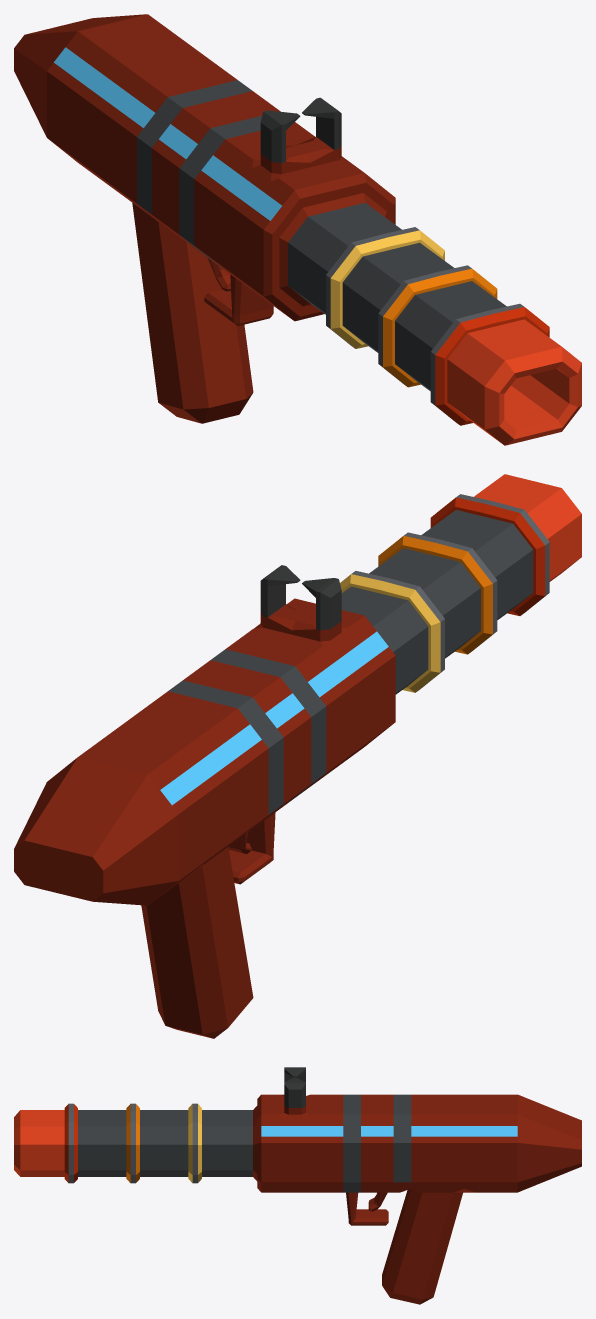
File: pistoLaser.fbx
3 views of the same model, one above another, from view 1: azimuth 30°, elevation 25°; view 2: azimuth 150°, elevation 25°; view 3: azimuth 270°, elevation 25° (orthographic). The views are drawn at different scales.
Parts seen in each view (by area): view 1: Cube; view 2: Cube; view 3: Cube.
Part boxes in pixels (left/top/right/bottom): Cube: left=14, top=14, right=581, bottom=445; Cube: left=14, top=474, right=581, bottom=1038; Cube: left=14, top=1067, right=581, bottom=1304.
Size of the model in its own units: 113 by 712 by 309.
